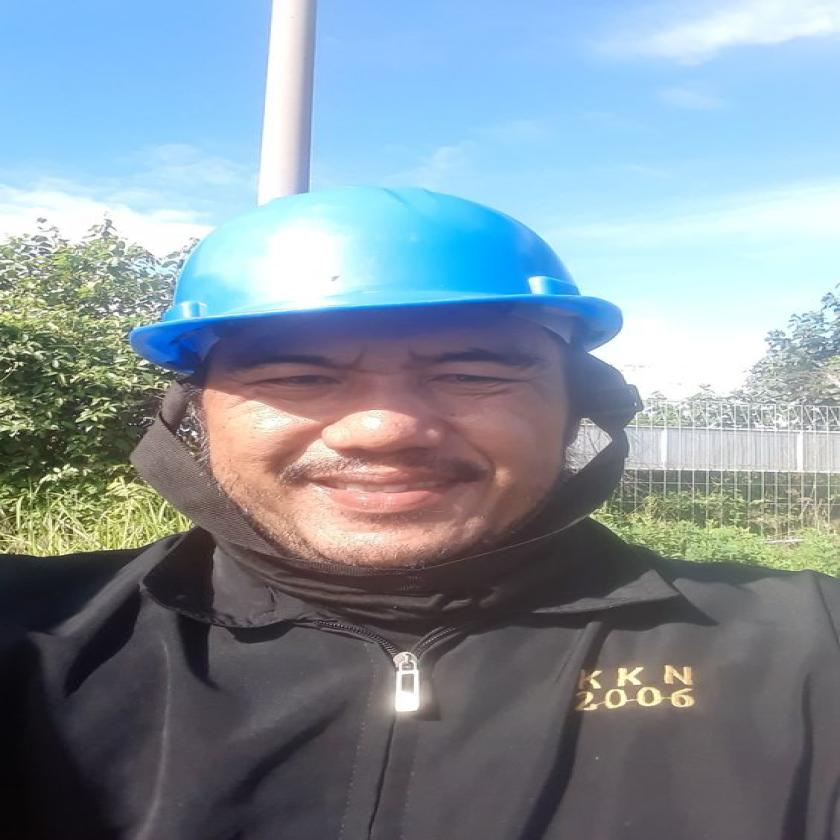Con_casco: (117, 172, 662, 592)
